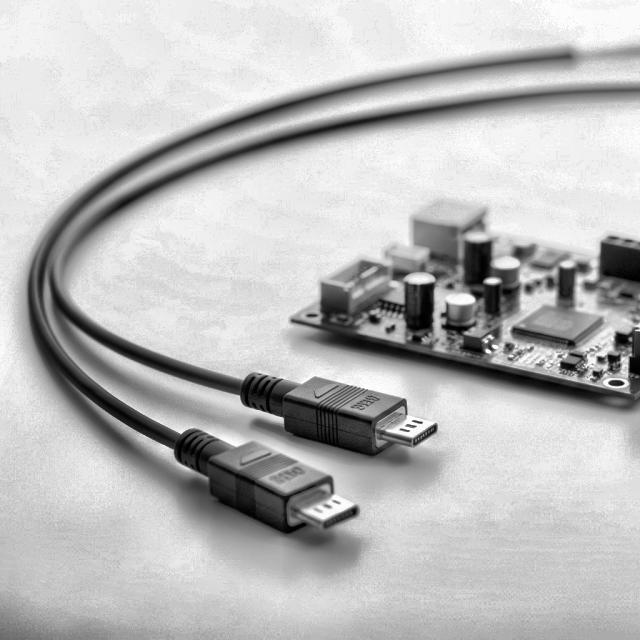Cable: (29, 51, 640, 538)
PCB: (295, 190, 640, 398)
